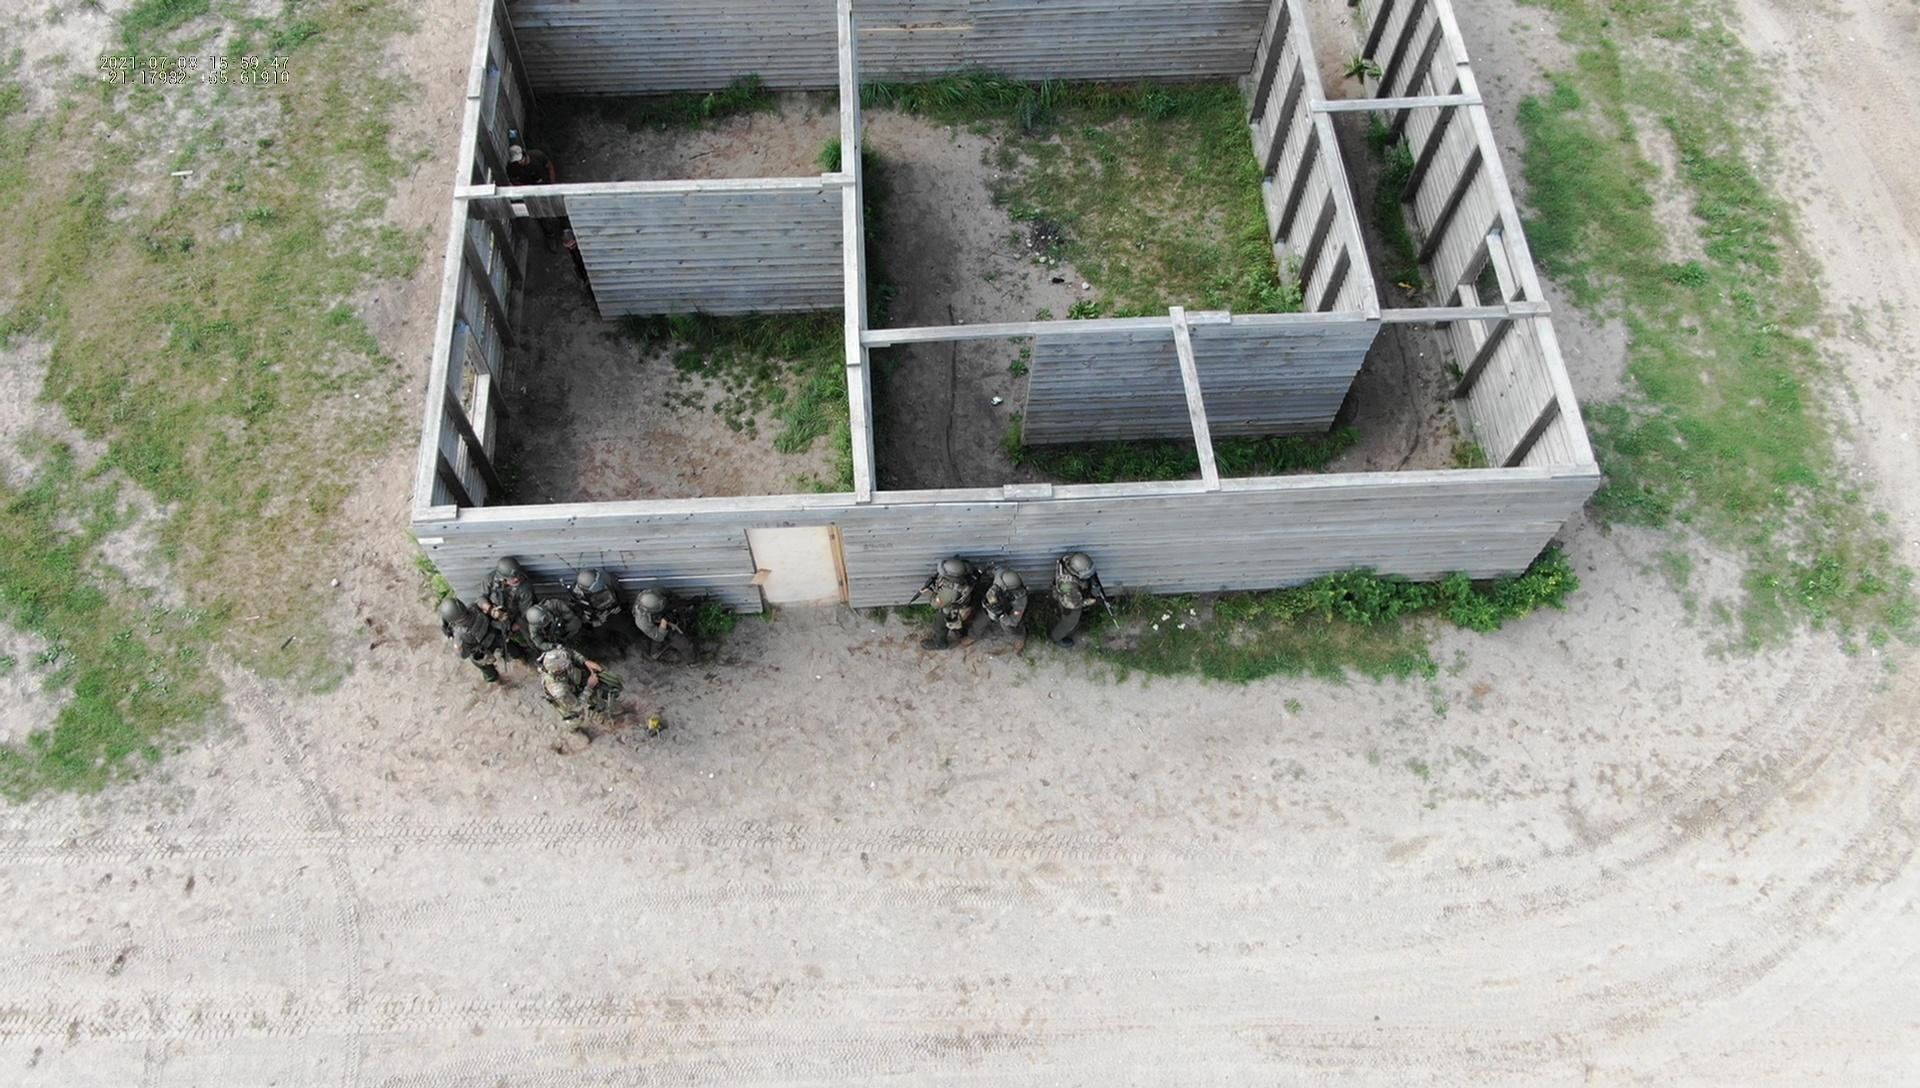Soldier: (550, 653, 655, 768), (1036, 537, 1124, 673), (909, 549, 992, 655), (646, 583, 723, 677), (455, 592, 520, 694), (575, 562, 646, 636), (972, 571, 1026, 662), (513, 592, 580, 648), (489, 562, 537, 622)
